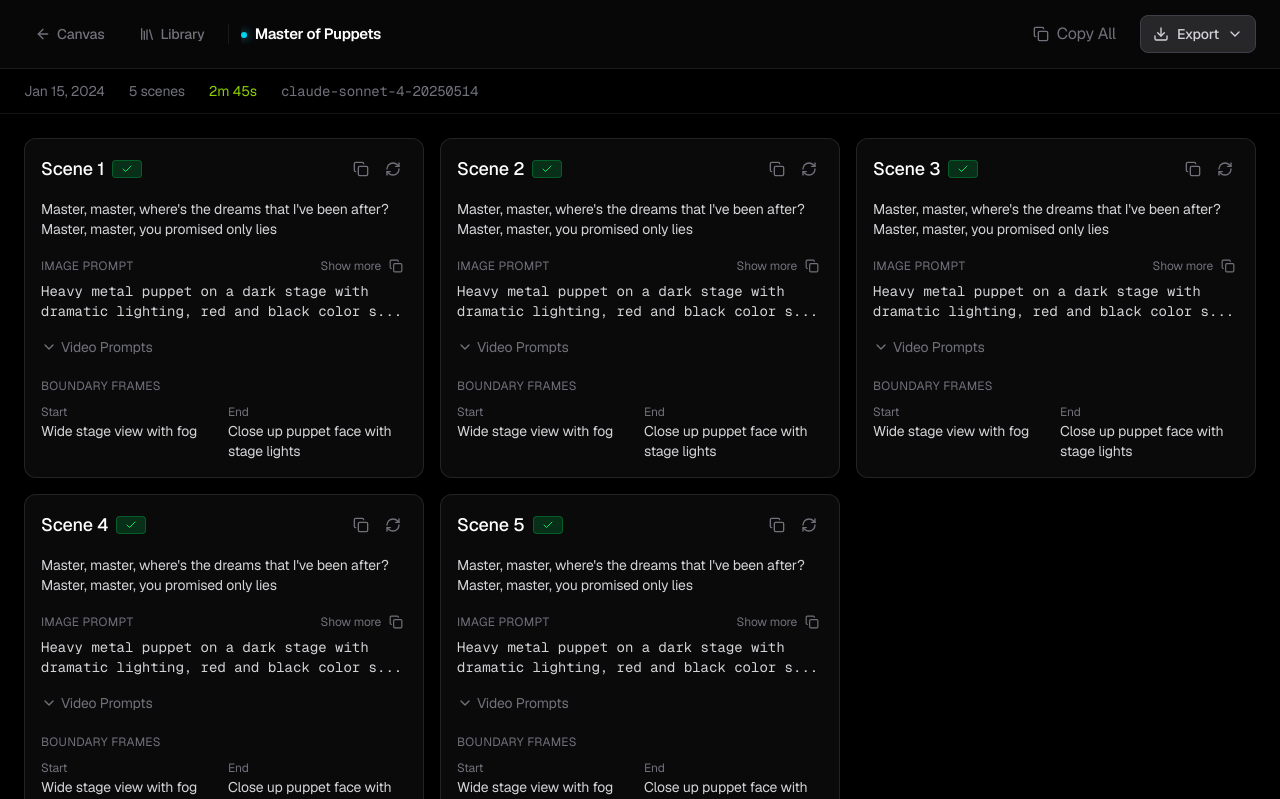
Test case: RunViewer › Export Functionality › has Export dropdown with format options
# Click Export dropdown button
Click the button "Export": point(1198, 34) x1=1140 y1=15 x2=1256 y2=53
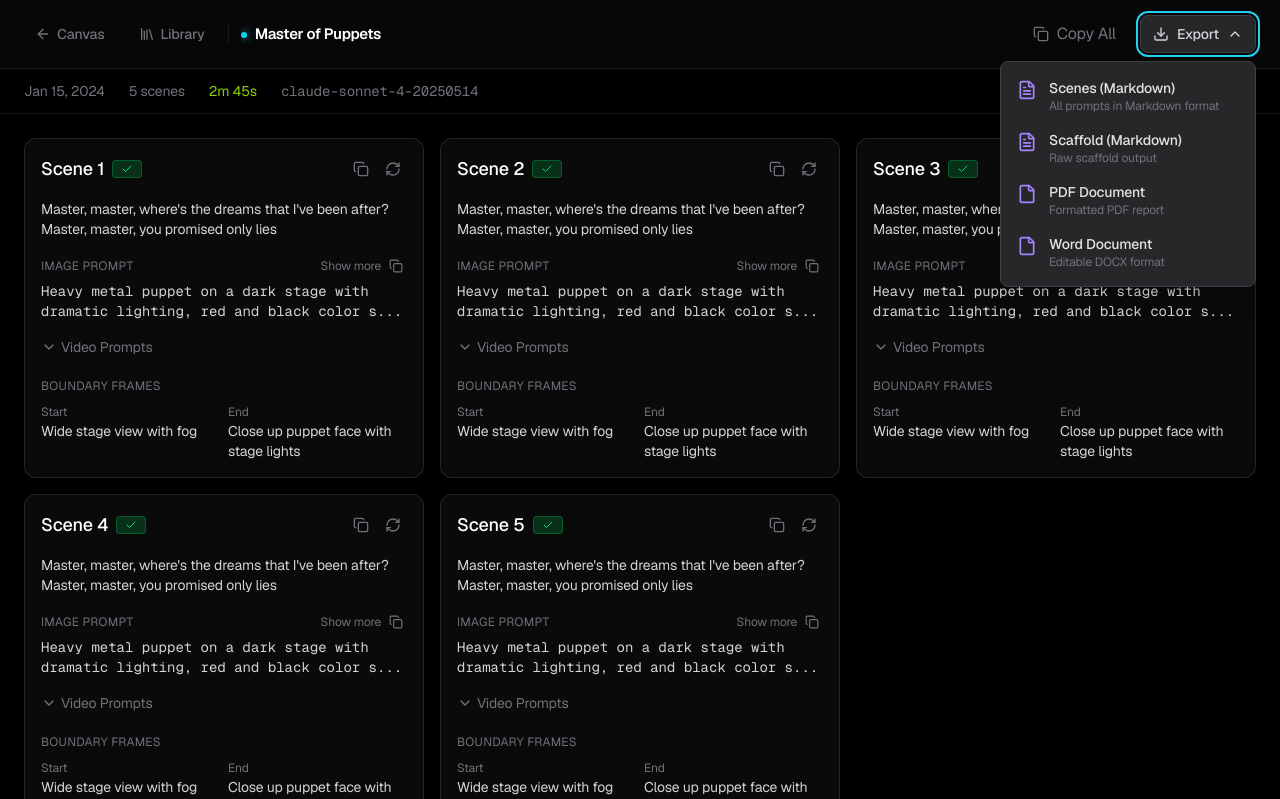
Expected: the text "Scenes (Markdown)" is shown, x1=1049 y1=79 x2=1175 y2=97
Expected: the text "Scaffold (Markdown)" is shown, x1=1049 y1=130 x2=1182 y2=150
Expected: the text "PDF Document" is shown, x1=1049 y1=183 x2=1145 y2=201
